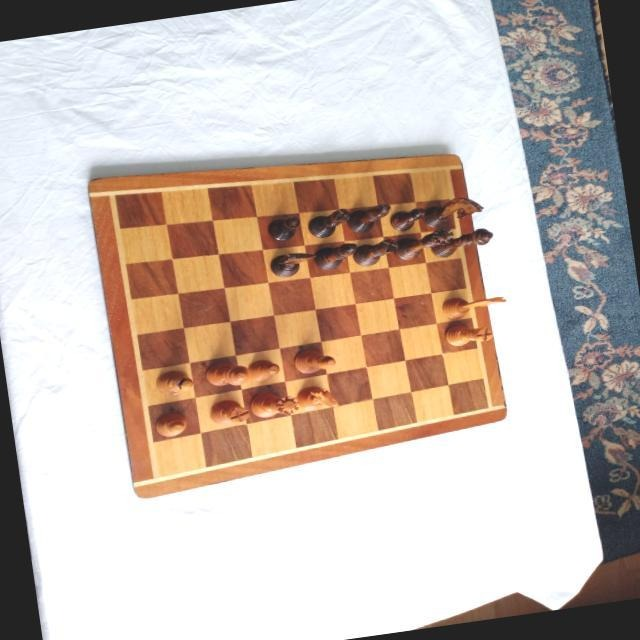black-bishop: (312, 239, 359, 270)
black-king: (430, 225, 493, 259)
black-knight: (417, 195, 484, 229), (267, 249, 309, 279)
black-pawn: (343, 201, 392, 235), (265, 212, 303, 244), (387, 206, 427, 232)
black-queen: (393, 226, 454, 262)
black-rook: (303, 205, 353, 240), (349, 236, 400, 268)
white-bishop: (290, 344, 337, 377), (154, 367, 193, 398)
white-king: (204, 356, 252, 392)
white-knight: (439, 290, 507, 321), (442, 317, 492, 351), (294, 382, 340, 414)
white-pawn: (153, 408, 191, 440), (241, 356, 282, 384)
white-queen: (248, 386, 300, 421)
white-rook: (208, 395, 255, 429)
